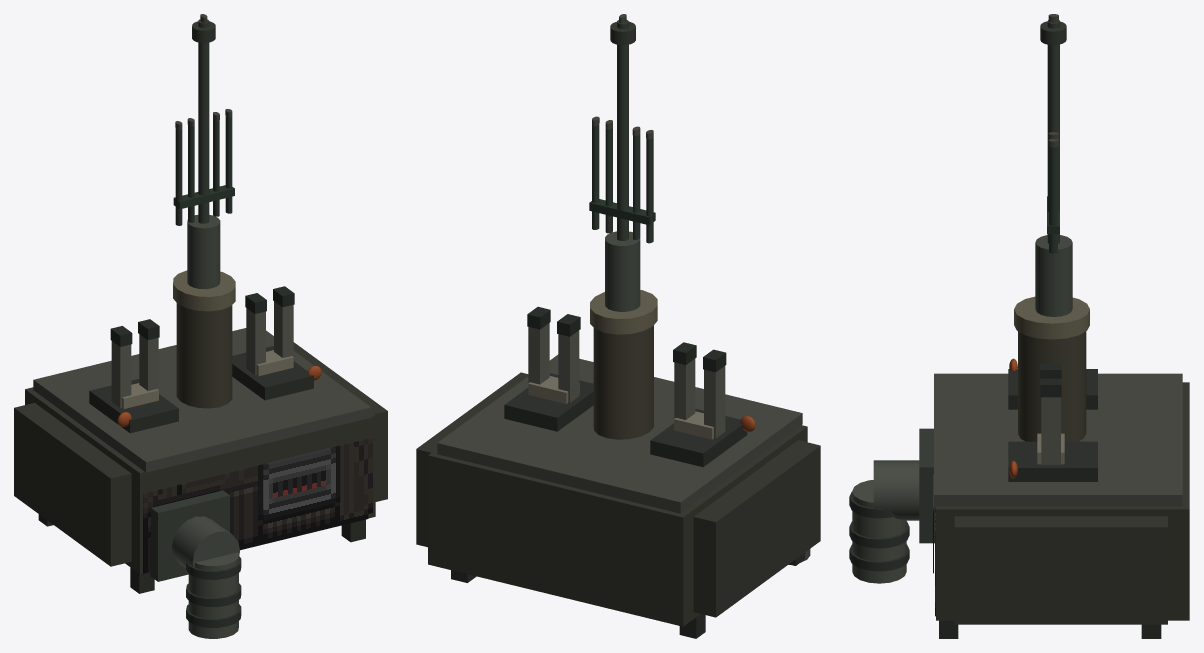
Rendered from CMU3DCommunicationsTowerCloud.glb.
The picture shows the model from 3 angles, left to right: view 1: azimuth 30°, elevation 25°; view 2: azimuth 150°, elevation 25°; view 3: azimuth 270°, elevation 25°; orthographic projection. The views are drawn at different scales.
Parts seen in each view (by area): view 1: base top deck, left narrower armored side, source receiver face, deep central receiver housing, central socket heavy collar, paired rectangular support prong (×4), source receiver control module, receiver upstand socket (×2), front pipe rectangular mounting flange, parallel antenna rod (×4), downturned front conduit, front horizontal conduit (+7 smaller); view 2: deep central receiver housing, base top deck, left narrower armored side, central socket heavy collar, paired rectangular support prong (×4), receiver upstand socket (×2), parallel antenna rod (×4), thick lower antenna mast, central long antenna rod, right narrower armored side, socket upper lip, upstand lower connecting block (×2) (+1 smaller); view 3: base top deck, right narrower armored side, deep central receiver housing, central socket heavy collar, receiver upstand socket (×2), downturned front conduit, thick lower antenna mast, front horizontal conduit, socket upper lip, conduit reinforcing collar (×3), front pipe rectangular mounting flange, central long antenna rod (+3 smaller).
Part boxes in pixels (box(x1,y1,x2,y2)): base top deck: box(33, 328, 371, 472); left narrower armored side: box(14, 403, 131, 566); source receiver face: box(143, 437, 372, 573); deep central receiver housing: box(25, 387, 375, 573); central socket heavy collar: box(176, 303, 232, 408); paired rectangular support prong (×4): box(111, 301, 293, 408); source receiver control module: box(263, 446, 340, 520); receiver upstand socket (×2): box(89, 346, 313, 433); front pipe rectangular mounting flange: box(150, 490, 229, 581); parallel antenna rod (×4): box(175, 116, 232, 225); downturned front conduit: box(188, 552, 238, 638); front horizontal conduit: box(172, 516, 239, 567); deep central receiver housing: box(428, 425, 807, 626); base top deck: box(437, 354, 802, 513); left narrower armored side: box(693, 440, 820, 617); central socket heavy collar: box(593, 325, 653, 439); paired rectangular support prong (×4): box(528, 323, 725, 438); receiver upstand socket (×2): box(504, 373, 747, 467); parallel antenna rod (×4): box(592, 124, 653, 243); thick lower antenna mast: box(605, 231, 640, 311); central long antenna rod: box(617, 20, 628, 240); right narrower armored side: box(416, 372, 528, 547); socket upper lip: box(590, 290, 657, 334); upstand lower connecting block (×2): box(528, 376, 713, 439); base top deck: box(934, 373, 1182, 506); right narrower armored side: box(954, 516, 1167, 624); deep central receiver housing: box(936, 382, 1189, 620); central socket heavy collar: box(1018, 331, 1086, 441); receiver upstand socket (×2): box(1008, 369, 1097, 481); downturned front conduit: box(852, 480, 906, 583); thick lower antenna mast: box(1035, 235, 1072, 316); front horizontal conduit: box(873, 460, 919, 520); socket upper lip: box(1014, 296, 1089, 339); conduit reinforcing collar (×3): box(849, 491, 909, 571); front pipe rectangular mounting flange: box(919, 428, 934, 543); central long antenna rod: box(1047, 20, 1059, 243).
Size of what is drawn, in the model's own units: 1.81 by 3.36 by 1.74.
23 materials, 2 textured.
